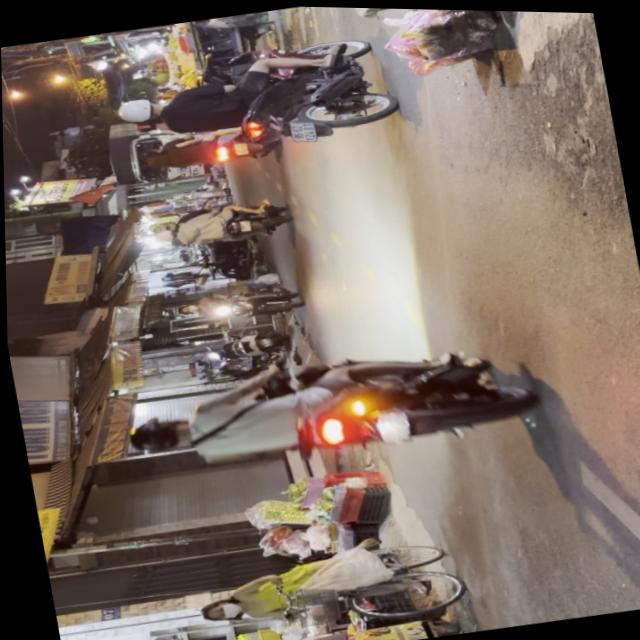helmet: (123, 414, 190, 460), (114, 93, 163, 127)
licenseplate: (113, 323, 546, 492), (105, 25, 401, 173)
nohelmet: (371, 407, 409, 445), (287, 116, 314, 142)
